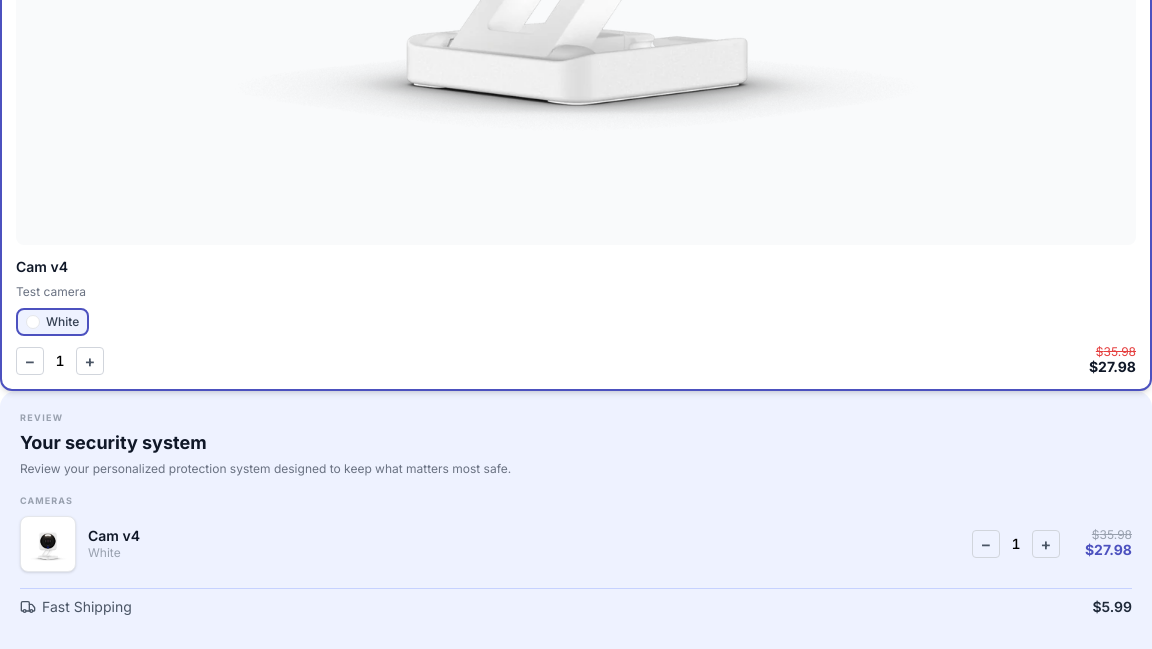
Test: product and review synchronization › updates the review line when quantity changes on the product card
The image size is (1152, 649).
(page scrolled)
Click the button named "Increase quantity": [90, 360] box [76,346,104,374]
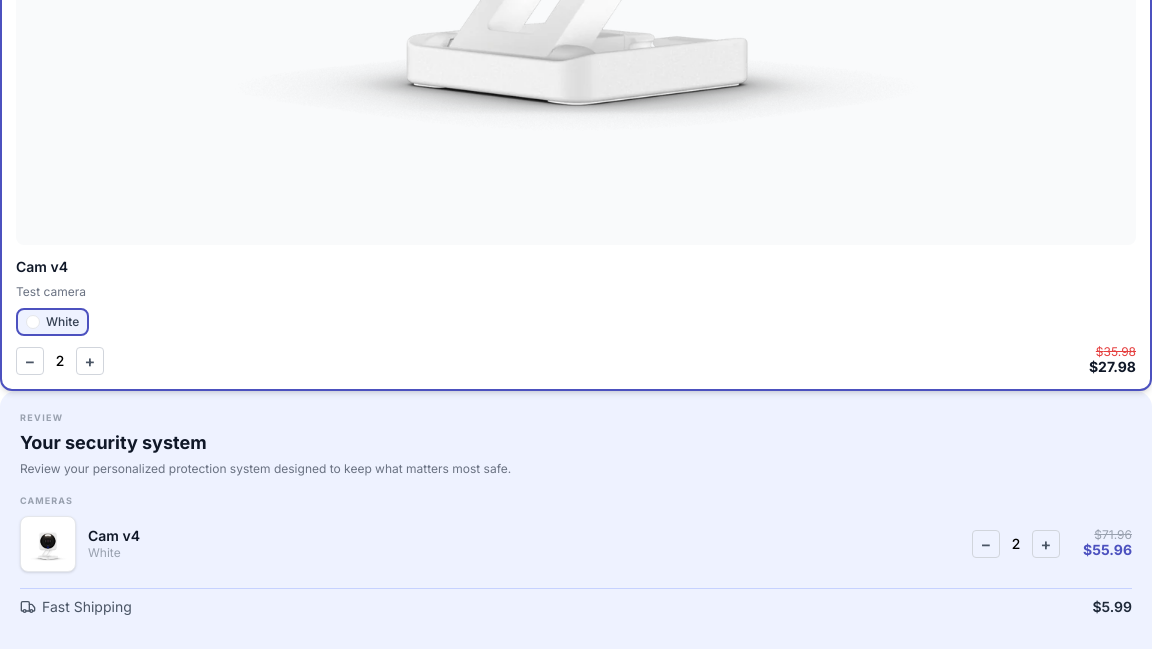
Expected: the text "$55.96" is shown, [1083,541,1132,558]
